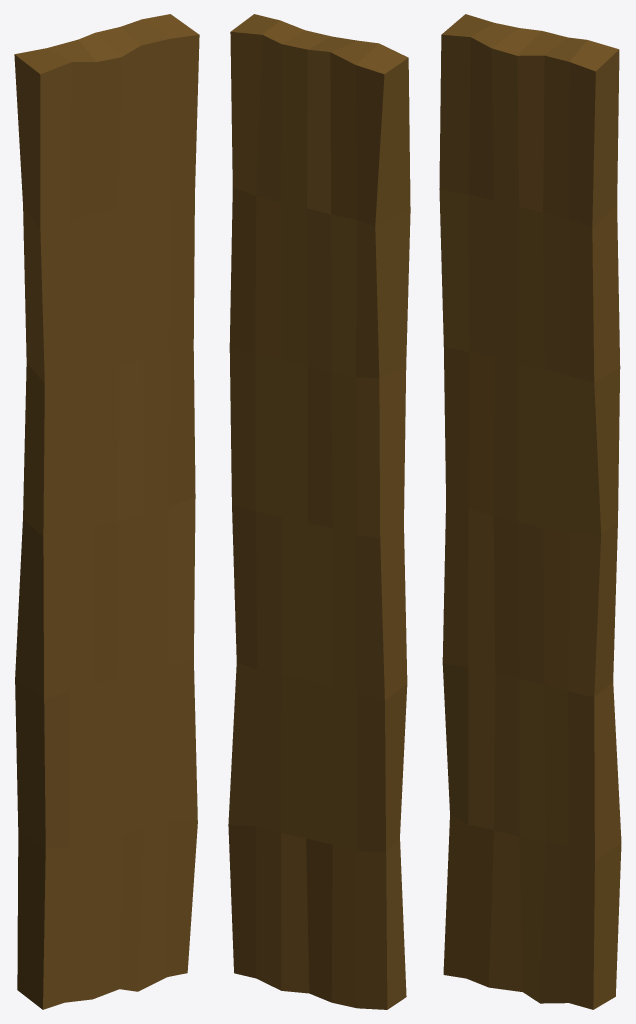
File: Board.glb
The picture shows the model from 3 angles, left to right: view 1: azimuth 30°, elevation 25°; view 2: azimuth 150°, elevation 25°; view 3: azimuth 330°, elevation 25°; orthographic projection.
Parts seen in each view (by area): view 1: Board; view 2: Board; view 3: Board.
Boxes of the visible parts, left/top/right/bottom form: Board: left=14, top=14, right=199, bottom=1009; Board: left=228, top=14, right=410, bottom=1009; Board: left=439, top=14, right=621, bottom=1009.
Bounding box in the file's own units: 0.2638 × 1.52 × 0.0822.
